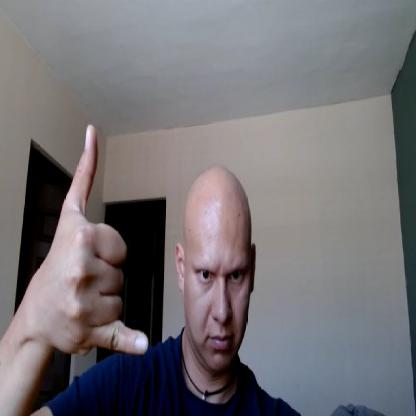Y: (42, 121, 151, 349)
